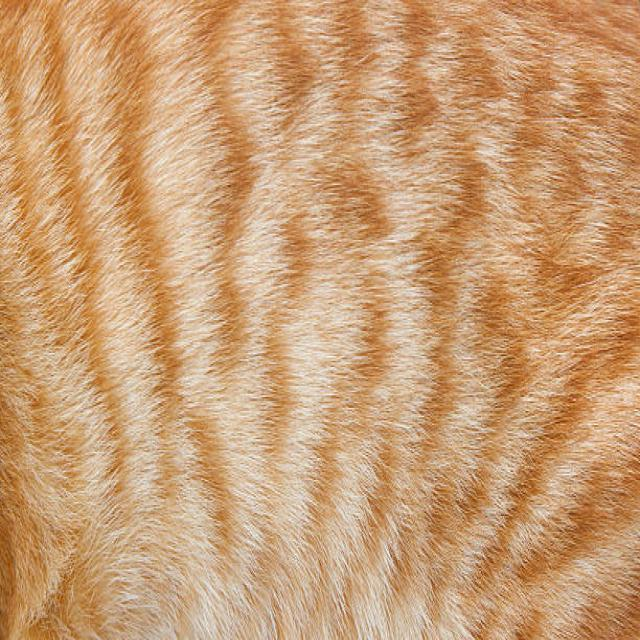Healthy skin: (279, 10, 628, 612), (0, 0, 266, 424), (18, 452, 248, 606)
